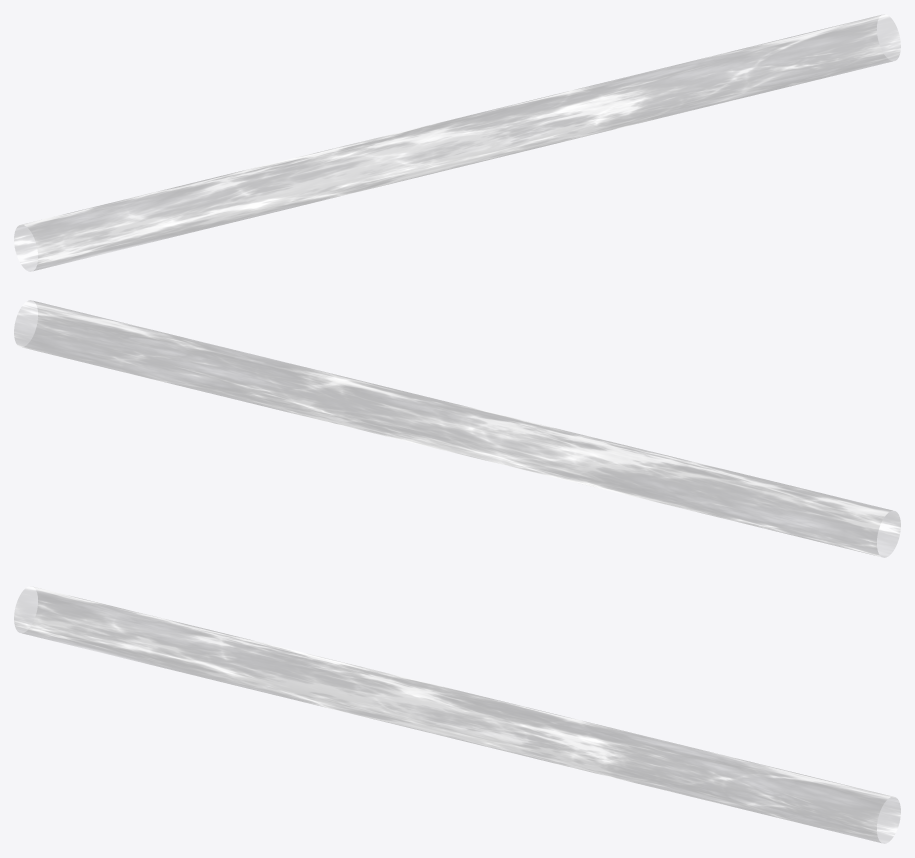
Rendered from SM_warpbubble.glb.
The picture shows the model from 3 angles, top to bottom: view 1: azimuth 30°, elevation 25°; view 2: azimuth 150°, elevation 25°; view 3: azimuth 330°, elevation 25°; orthographic projection.
Visible parts, largest first — view 1: Cylinder; view 2: Cylinder; view 3: Cylinder.
Boxes of the visible parts, bbox=[...] form: Cylinder: bbox=[14, 14, 900, 270]; Cylinder: bbox=[14, 300, 900, 557]; Cylinder: bbox=[14, 586, 900, 842].
Bounding box in the file's own units: 1635 × 79.28 × 79.28.
1 material, 1 textured.
